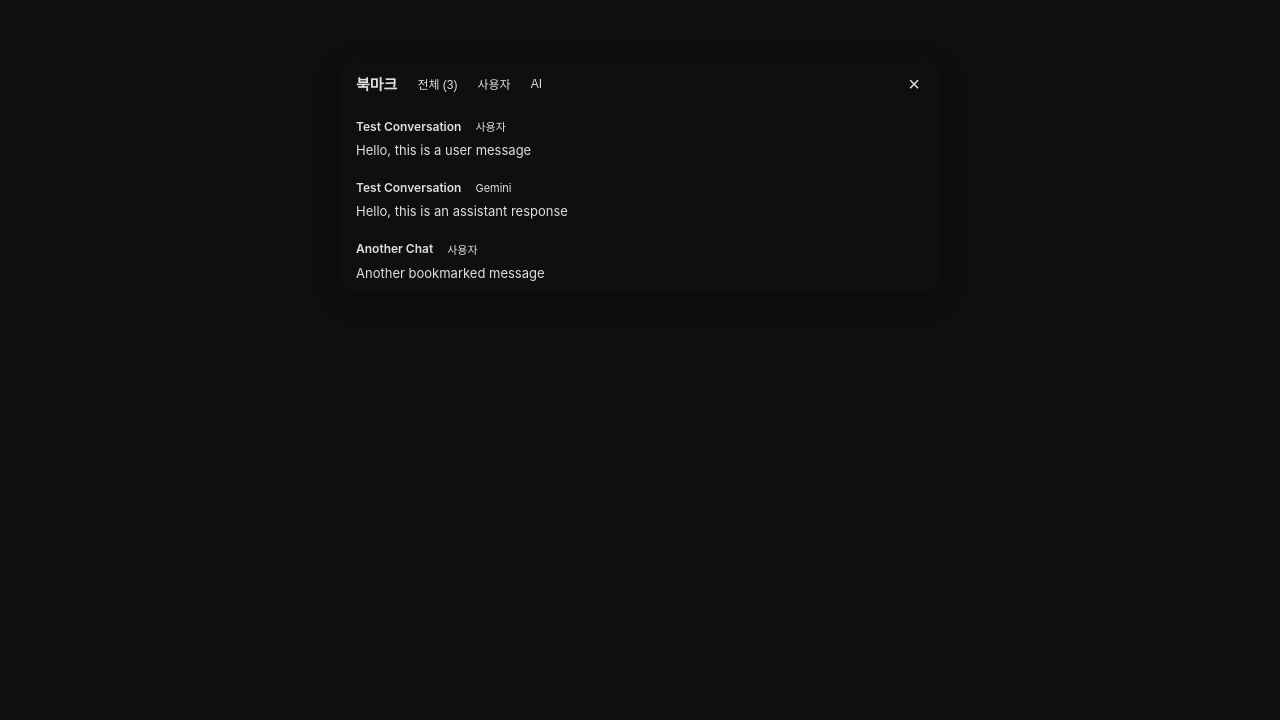
Test case: BookmarkedMessages › filters by user role
Step 1. Click the button with aria-label "사용자 필터" → coordinates (494, 84), box [470,72,519,95]
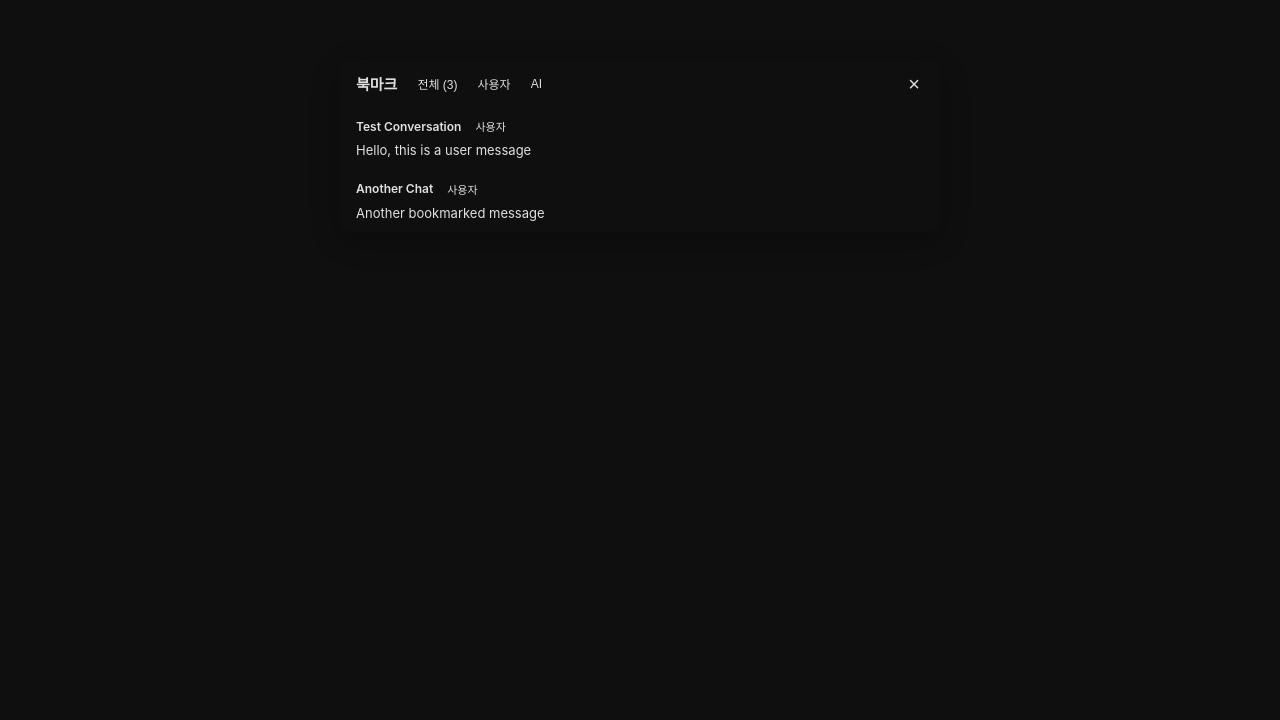
Now the number of options is 2, box [356,119,531,158]; [356,181,545,221]
